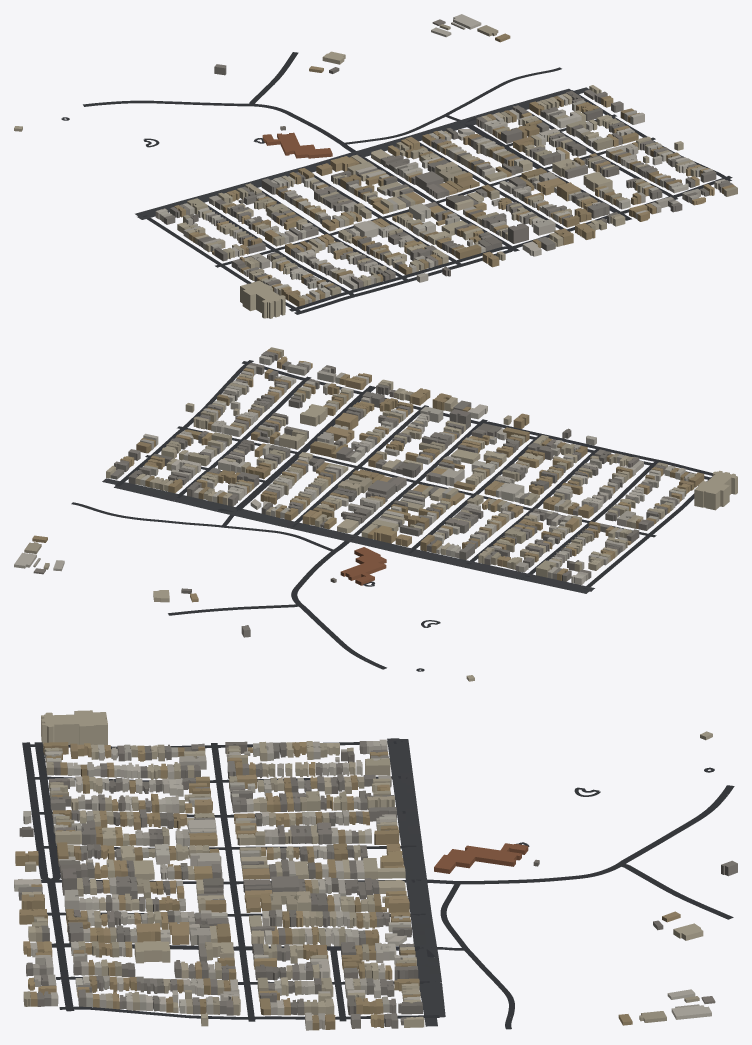
File: tile_6_14.glb
3 views of the same model, one above another, from view 1: azimuth 30°, elevation 25°; view 2: azimuth 150°, elevation 25°; view 3: azimuth 270°, elevation 25° (orthographic). The views are drawn at different scales.
Visible parts, largest first — view 1: bld_6_14, road_6_14; view 2: bld_6_14, road_6_14; view 3: bld_6_14, road_6_14.
Boxes of the visible parts, bbox=[...] form: bld_6_14: bbox=[14, 14, 737, 318]; road_6_14: bbox=[61, 52, 732, 314]; bld_6_14: bbox=[14, 347, 737, 681]; road_6_14: bbox=[71, 360, 712, 671]; bld_6_14: bbox=[14, 710, 737, 1030]; road_6_14: bbox=[22, 738, 734, 1029].
Bounding box in the file's own units: 825 × 40.02 × 821.
